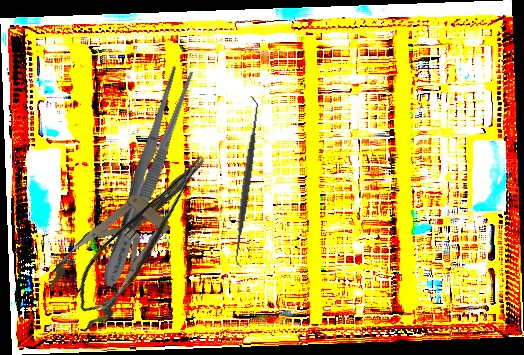Dressing Forceps: (94, 64, 198, 291)
Micro Scissor: (58, 150, 232, 324)
Spatula Surgical: (225, 95, 268, 268)
Speculum: (39, 153, 214, 335)
